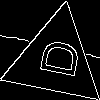D: (30, 35, 81, 80)
